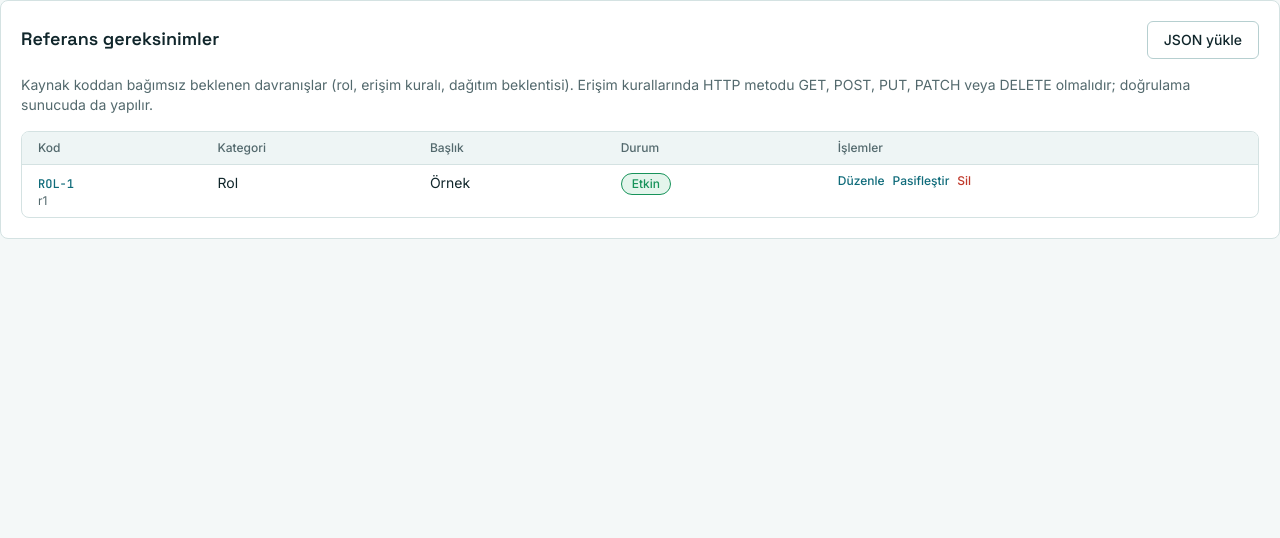
Test: kayıt JSON olarak görüntülenebilir
Click the button "ROL-1" at (56,184), box [38,176,74,192]
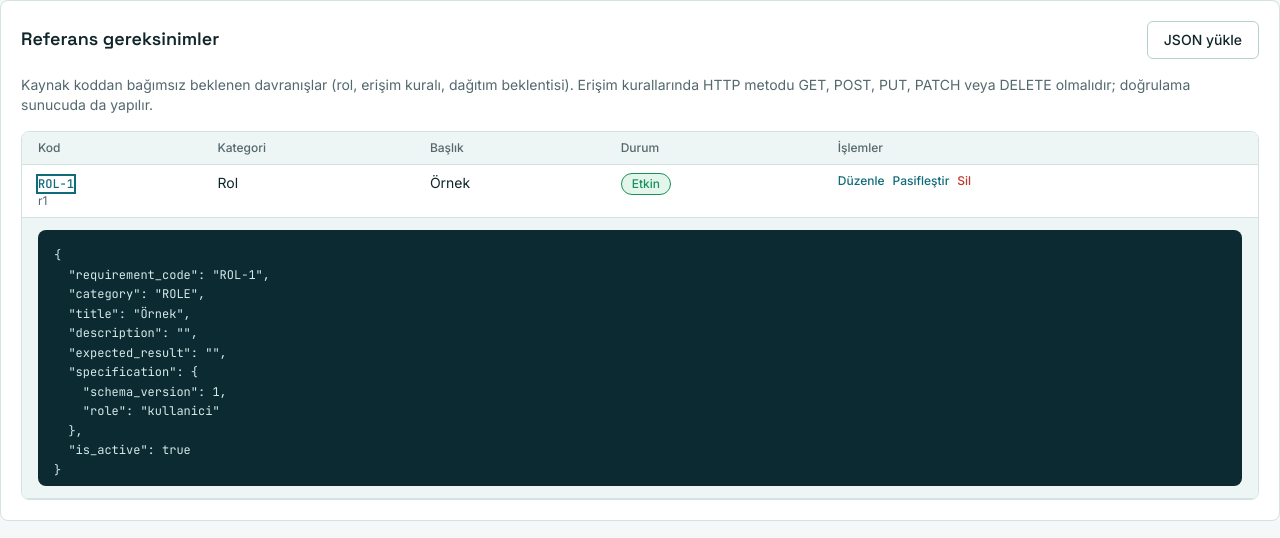
Now the element named "ROL-1 JSON" shows "\"requirement_code\": \"ROL-1\"", box [54,247,270,478]
